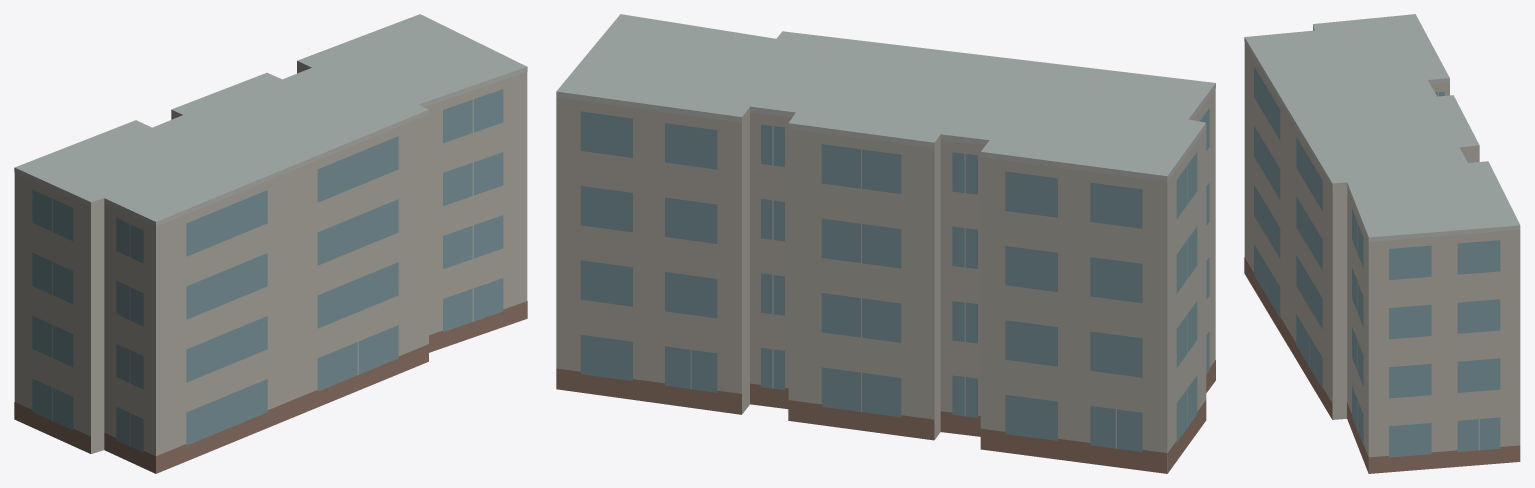
File: survey-upis-32658468.glb
3 views of the same model, side by side, from view 1: azimuth 30°, elevation 25°; view 2: azimuth 150°, elevation 25°; view 3: azimuth 270°, elevation 25° (orthographic). The views are drawn at different scales.
Parts seen in each view (by area): view 1: survey-upis-32658468.tmp; view 2: survey-upis-32658468.tmp; view 3: survey-upis-32658468.tmp.
Boxes of the visible parts, x1=… form: survey-upis-32658468.tmp: x1=14, y1=14, x2=527, y2=473; survey-upis-32658468.tmp: x1=556, y1=14, x2=1215, y2=473; survey-upis-32658468.tmp: x1=1244, y1=14, x2=1520, y2=473.
Bounding box in the file's own units: 25.95 × 12.8 × 13.55.
